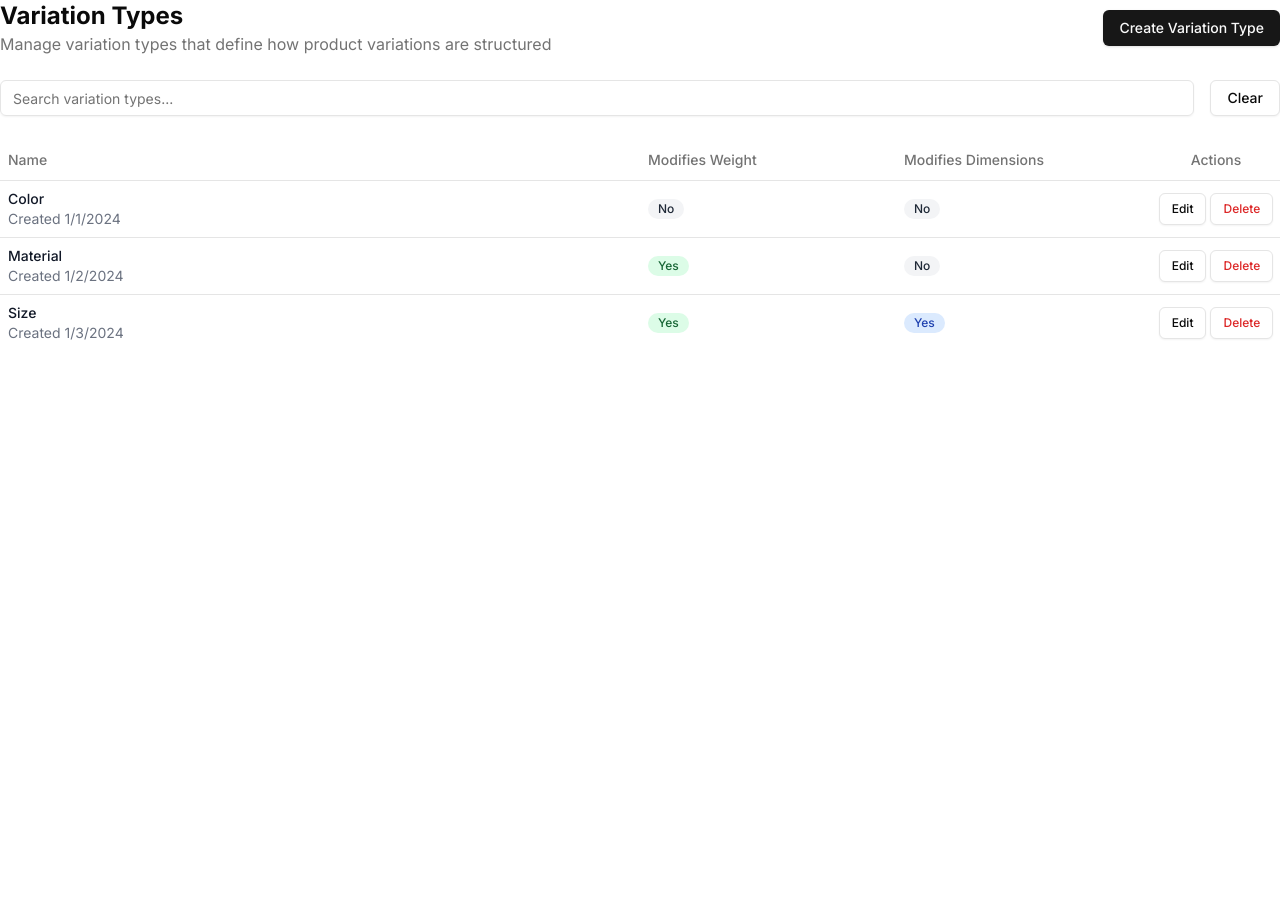
VariationTypeList › opens create modal when create button is clicked
What coordinates should you click on to do the following:
click the button "Create Variation Type"
I would click on:
 (1192, 28)
Its box is top-left (1104, 10), bottom-right (1279, 46).
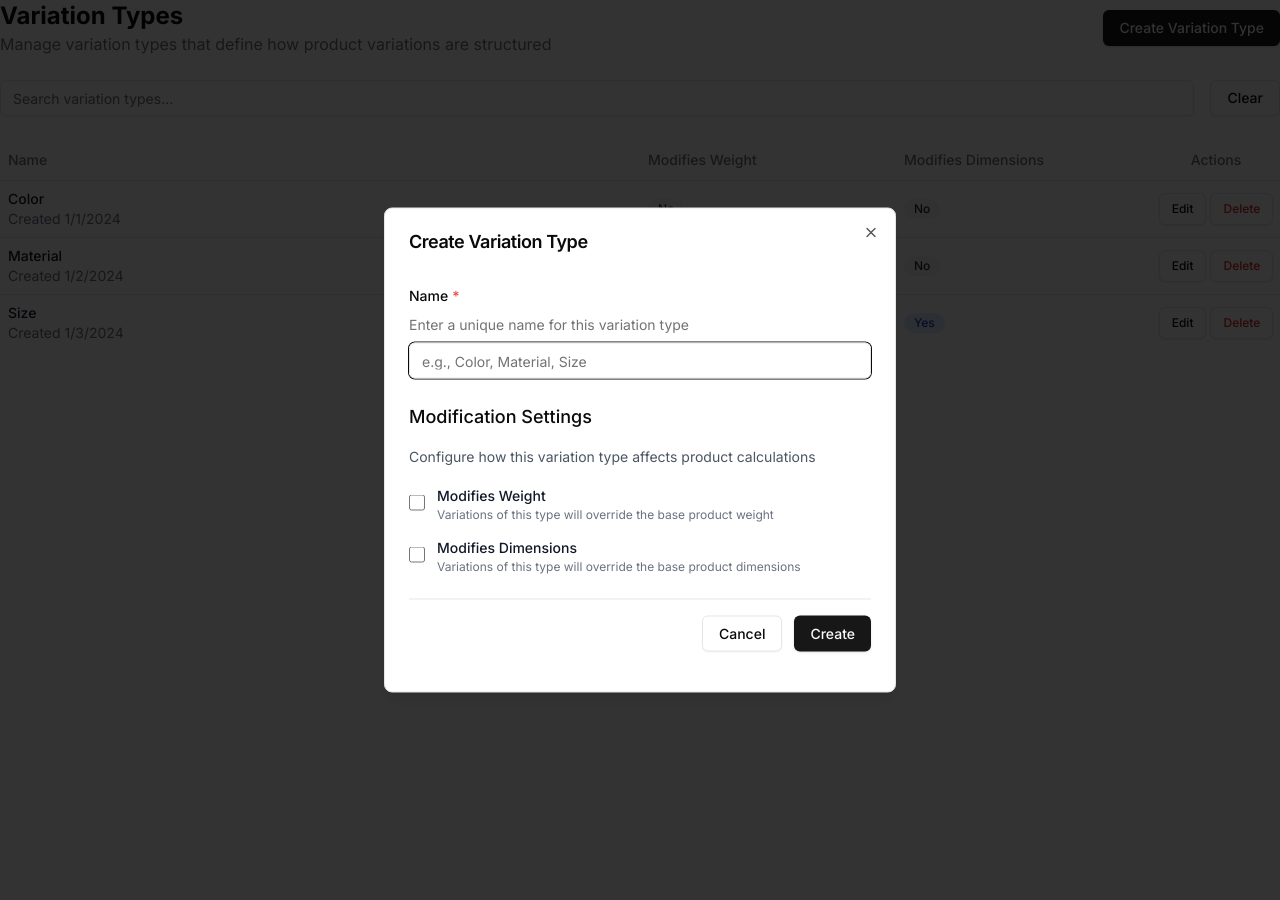
Now the number of buttons "Create Variation Type" is 2, box top-left (1104, 10), bottom-right (1279, 46); top-left (409, 230), bottom-right (588, 252)
